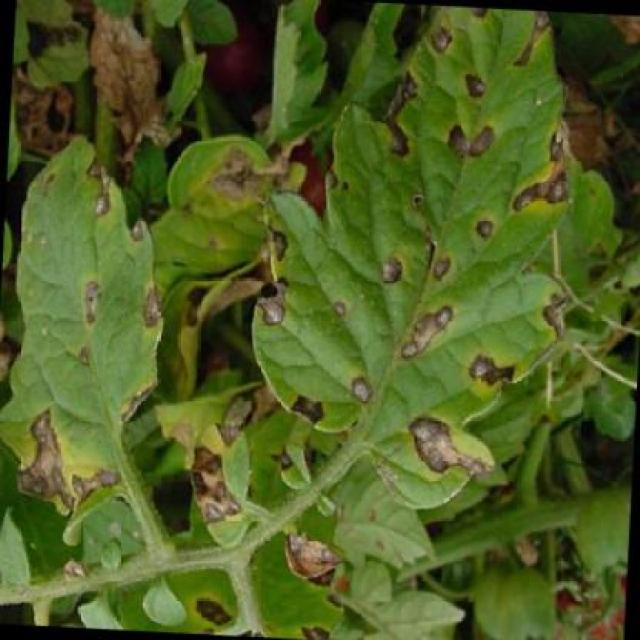Septoria leaf spot: (242, 5, 598, 542), (1, 125, 181, 554)
